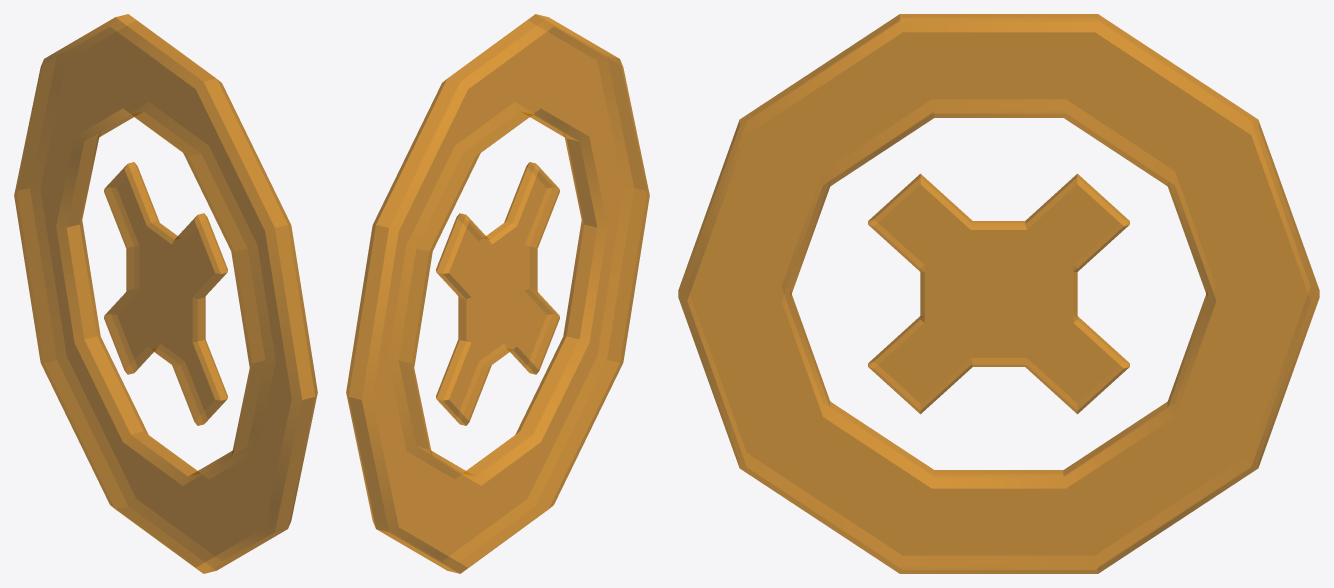
The model's file is SpectreIcon.fbx.
3 views of the same model, side by side, from view 1: azimuth 30°, elevation 25°; view 2: azimuth 150°, elevation 25°; view 3: azimuth 270°, elevation 25° (orthographic). The views are drawn at different scales.
Visible parts, largest first — view 1: SpectreIcon; view 2: SpectreIcon; view 3: SpectreIcon.
Part boxes in pixels (box(x1,y1,x2,y2)): SpectreIcon: box(14, 14, 317, 573); SpectreIcon: box(346, 14, 649, 573); SpectreIcon: box(678, 14, 1319, 573).
Bounding box in the file's own units: 1 × 17.94 × 18.87.
